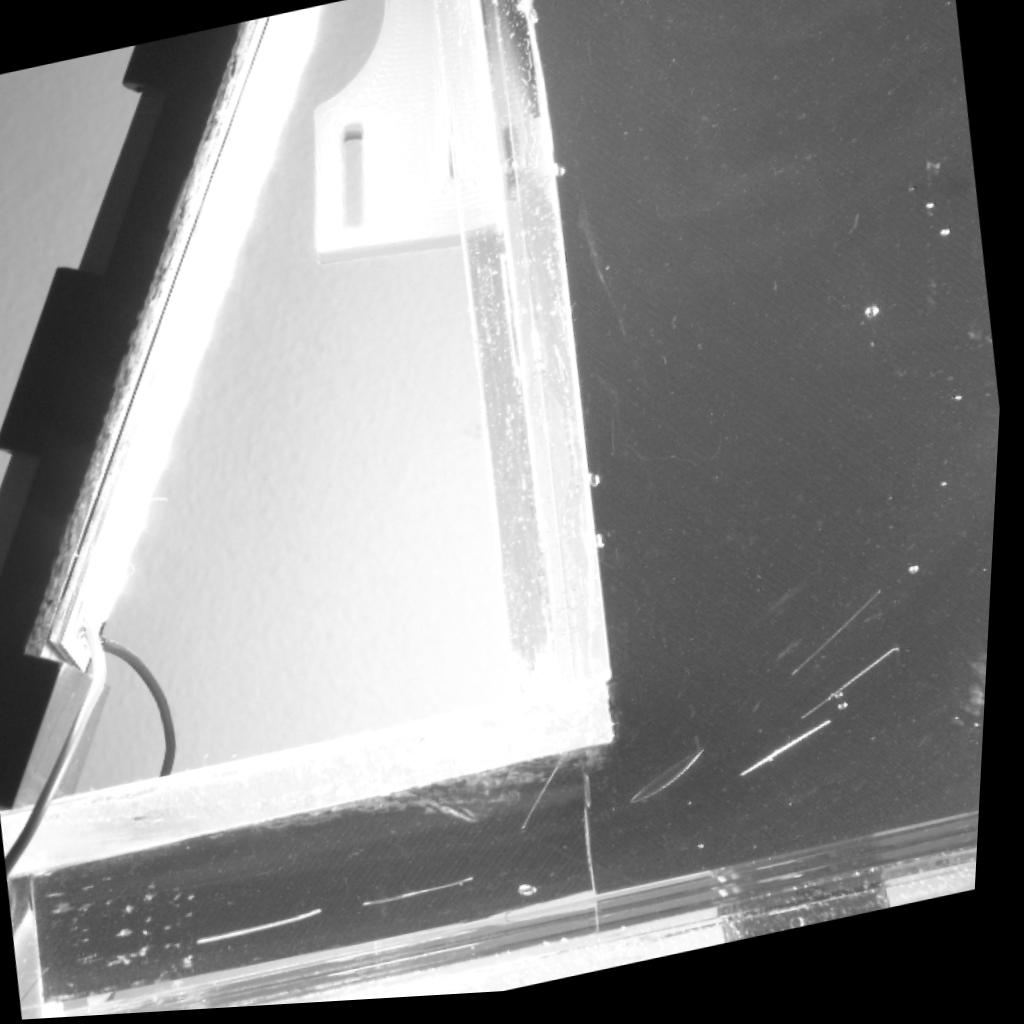Fiber: (795, 602, 892, 688), (806, 660, 909, 733), (745, 730, 843, 791), (530, 744, 584, 841), (203, 910, 333, 950), (371, 879, 487, 913), (32, 966, 62, 1003)
